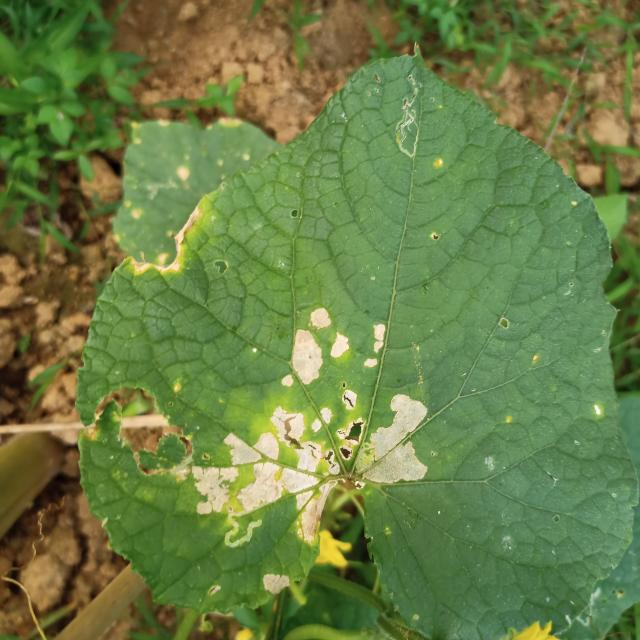disease_cucumber: (194, 290, 432, 535), (257, 567, 292, 599)
